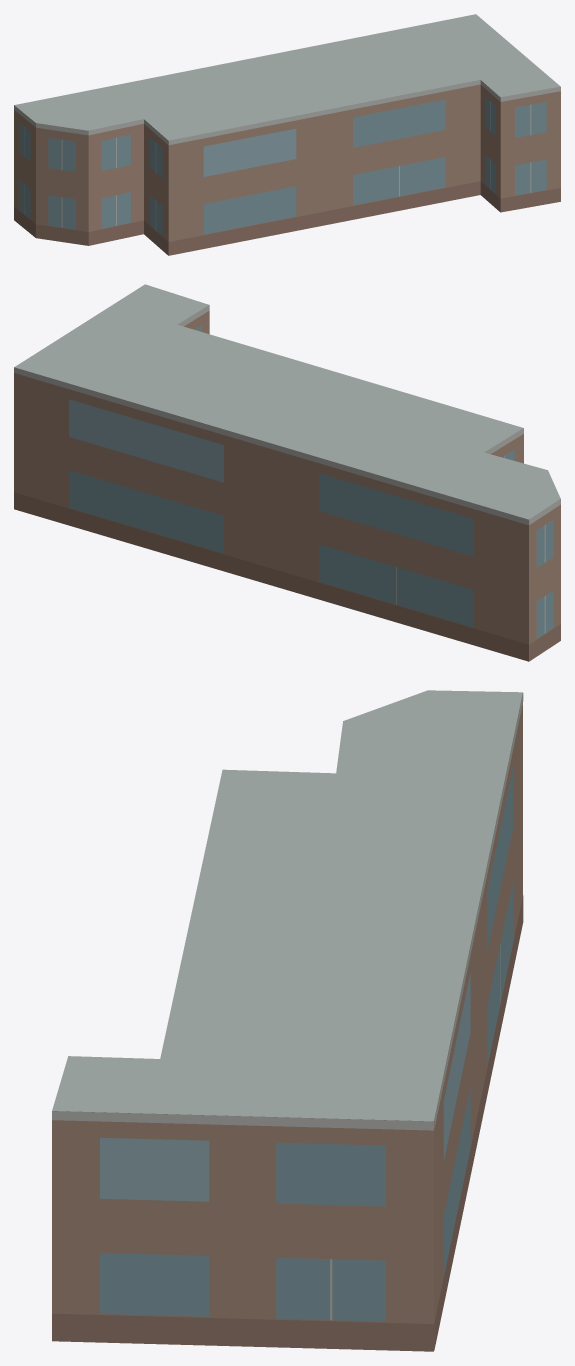
Rendered from survey-upis-32768967.glb.
3 views of the same model, one above another, from view 1: azimuth 30°, elevation 25°; view 2: azimuth 150°, elevation 25°; view 3: azimuth 270°, elevation 25° (orthographic). The views are drawn at different scales.
Visible parts, largest first — view 1: survey-upis-32768967.tmp; view 2: survey-upis-32768967.tmp; view 3: survey-upis-32768967.tmp.
Boxes of the visible parts, x1,y1,x2,y2 form: survey-upis-32768967.tmp: [14, 14, 560, 255]; survey-upis-32768967.tmp: [14, 284, 560, 661]; survey-upis-32768967.tmp: [52, 690, 523, 1351].
Size of the model in its own units: 24.51 by 6.1 by 11.32.
